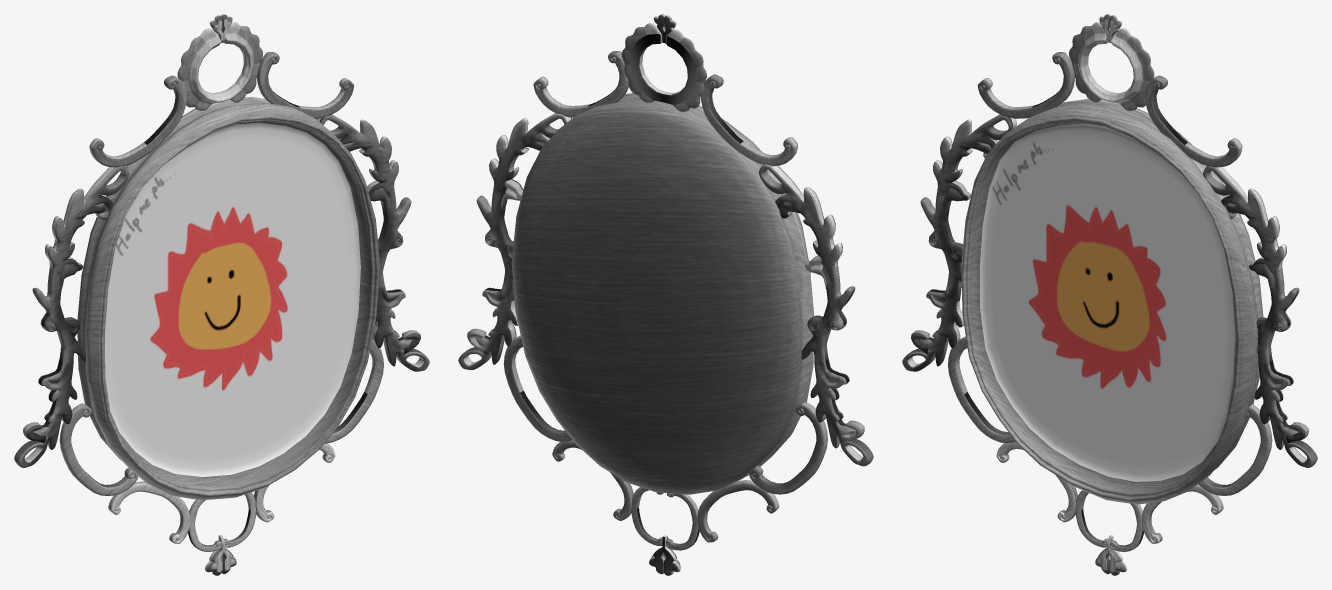
File: a_mirror.glb
The picture shows the model from 3 angles, left to right: view 1: azimuth 30°, elevation 25°; view 2: azimuth 150°, elevation 25°; view 3: azimuth 330°, elevation 25°; orthographic projection.
Parts seen in each view (by area): view 1: Line001; view 2: Line001; view 3: Line001.
Part boxes in pixels (x1,y1,x2,y2): Line001: (14, 14, 429, 575); Line001: (458, 14, 873, 575); Line001: (902, 14, 1317, 575).
Size of the model in its own units: 34.13 by 44.38 by 5.09.
Materials: 1 (1 with a texture image).
